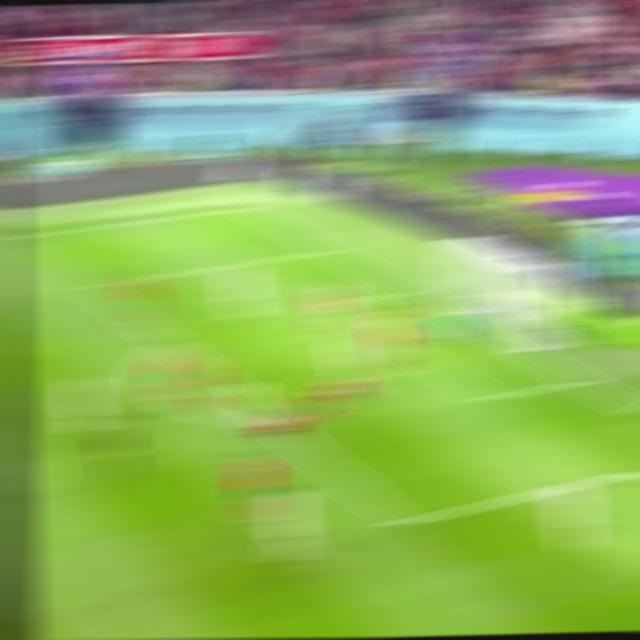bigarea_bottom_inner: (385, 509, 422, 537)
bigarea_top_inner: (78, 280, 107, 294)
bigarea_top_outter: (313, 244, 341, 254)
corner: (229, 204, 258, 211)
smallarea_bottom_inner: (473, 386, 506, 407)
smallarea_bottom_outter: (563, 372, 594, 387)
smallarea_top_outter: (393, 284, 421, 298)
top_arc_area_intersection: (155, 339, 181, 348)
